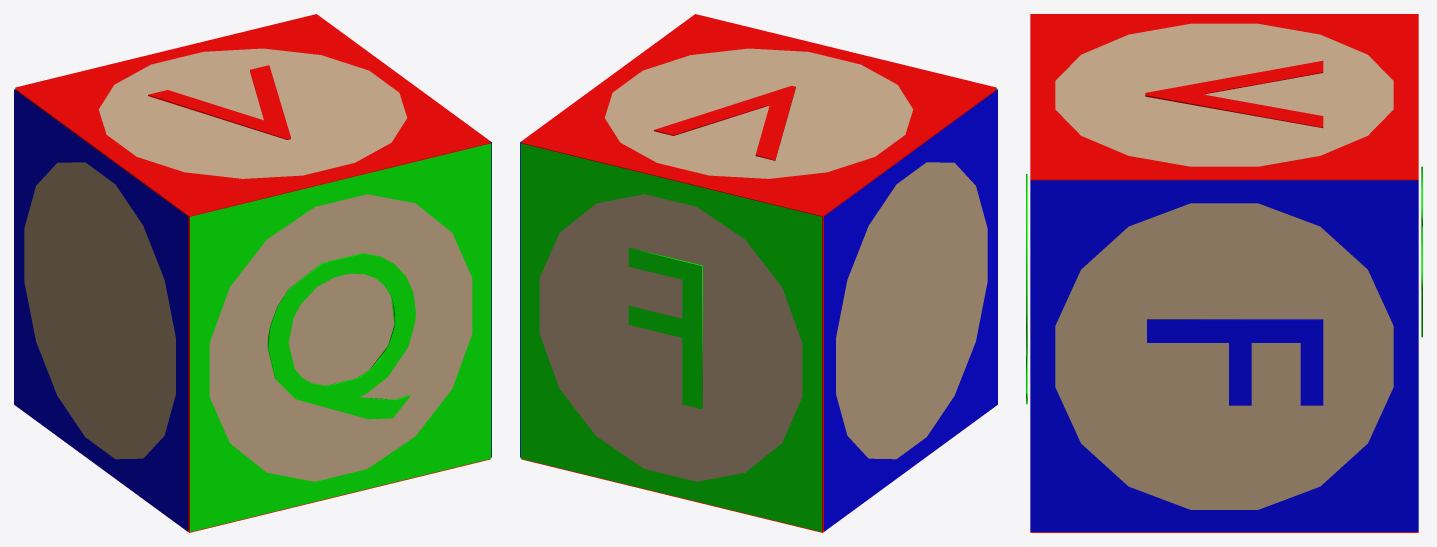
3 renders of one model, left to right at view 1: azimuth 30°, elevation 25°; view 2: azimuth 150°, elevation 25°; view 3: azimuth 270°, elevation 25°, orthographic. The views are drawn at different scales.
Parts seen in each view (by area): view 1: cube; view 2: cube; view 3: cube.
Boxes of the visible parts, x1,y1,x2,y2 form: cube: [14, 14, 491, 532]; cube: [520, 14, 997, 532]; cube: [1026, 14, 1422, 532].
Bounding box in the file's own units: 0.0458 × 0.046 × 0.046.
